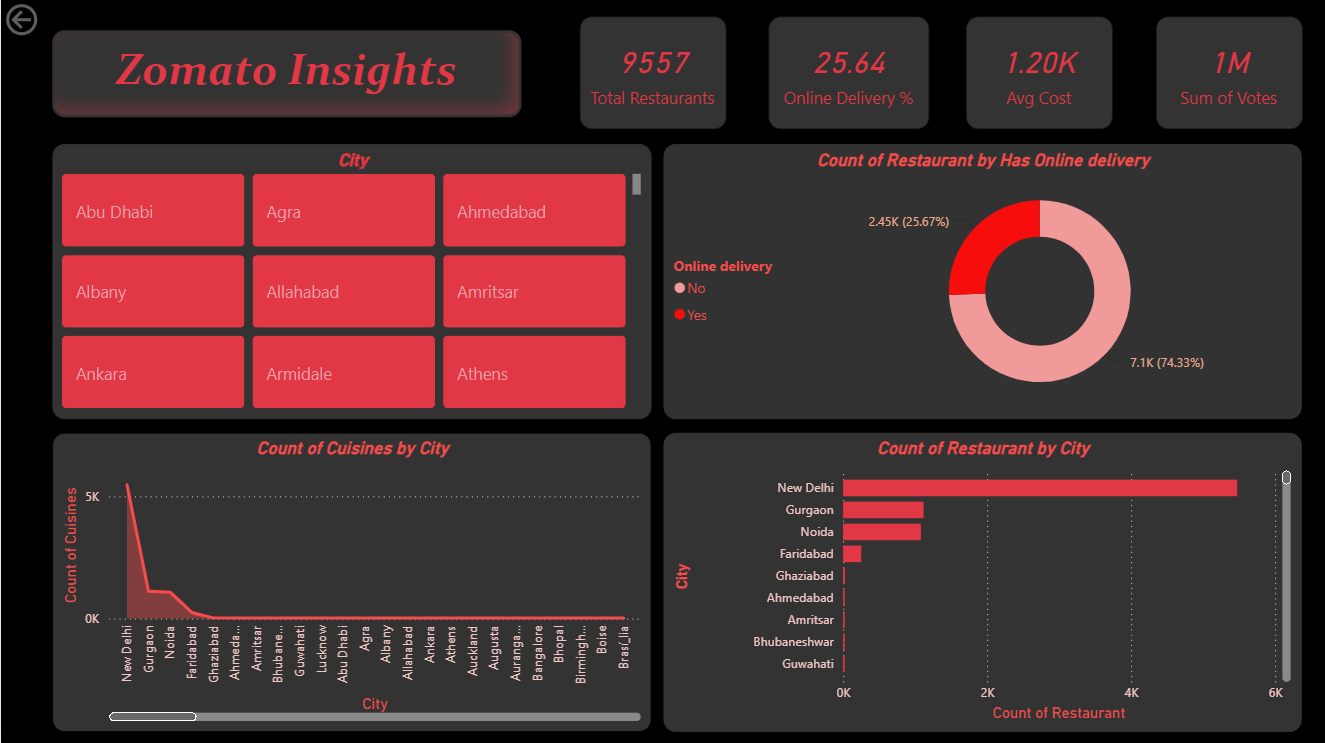

Layout of this report page (visuals, bound fields, positions):
{"tool":"powerbi","page":{"name":"Page 1","canvas":[1280,720],"ordinal":0},"visuals":[{"type":"textbox","box":[49.4,30.2,452.8,83.7],"z":0},{"type":"actionButton","box":[0,0,100,40],"z":1000},{"type":"card","fields":{"Values":["zomato.Total Restaurants"]},"box":[558.5,16.5,141.3,108.4],"z":2000},{"type":"card","fields":{"Values":["Sum(zomato.Votes)"]},"box":[1114.2,16.5,141.3,108.4],"z":3000},{"type":"card","fields":{"Values":["zomato.Avg Cost"]},"box":[931.7,16.5,141.3,108.4],"z":4000},{"type":"card","fields":{"Values":["zomato.Online Delivery %"]},"box":[741,16.5,155.1,108.4],"z":5000},{"type":"donutChart","fields":{"Category":["zomato.Has Online delivery"],"Y":["CountNonNull(zomato.Restaurant)"]},"box":[640,140,615.7,265.7],"z":6000},{"type":"clusteredBarChart","fields":{"Category":["zomato.City"],"Y":["CountNonNull(zomato.Restaurant)"]},"box":[640,418.6,615.7,288.6],"z":7000},{"type":"advancedSlicerVisual","fields":{"Values":["zomato.City"]},"box":[50,140,578.6,265.7],"z":8000},{"type":"areaChart","fields":{"Category":["zomato.City"],"Y":["CountNonNull(zomato.Cuisines)"]},"box":[50,418.6,578.6,288.6],"z":9000}]}

Visuals, with their boxes on the page's 1280x720 design canvas (x1, y1, x2, y2). These are canvas units, not pixel positions in the 1325x743 screenshot, which may show the page scaled, cropped or inside an application window:
textbox: 49, 30, 502, 114
actionButton: 0, 0, 100, 40
card - zomato.Total Restaurants: 558, 16, 700, 125
card - Sum(zomato.Votes): 1114, 16, 1256, 125
card - zomato.Avg Cost: 932, 16, 1073, 125
card - zomato.Online Delivery %: 741, 16, 896, 125
donutChart - zomato.Has Online delivery x CountNonNull(zomato.Restaurant): 640, 140, 1256, 406
clusteredBarChart - zomato.City x CountNonNull(zomato.Restaurant): 640, 419, 1256, 707
advancedSlicerVisual - zomato.City: 50, 140, 629, 406
areaChart - zomato.City x CountNonNull(zomato.Cuisines): 50, 419, 629, 707
